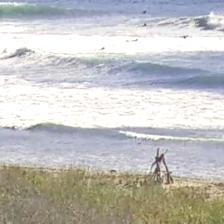surfer: (126, 38, 138, 42), (141, 22, 148, 28), (142, 10, 148, 15), (98, 46, 105, 50), (181, 35, 188, 39)
